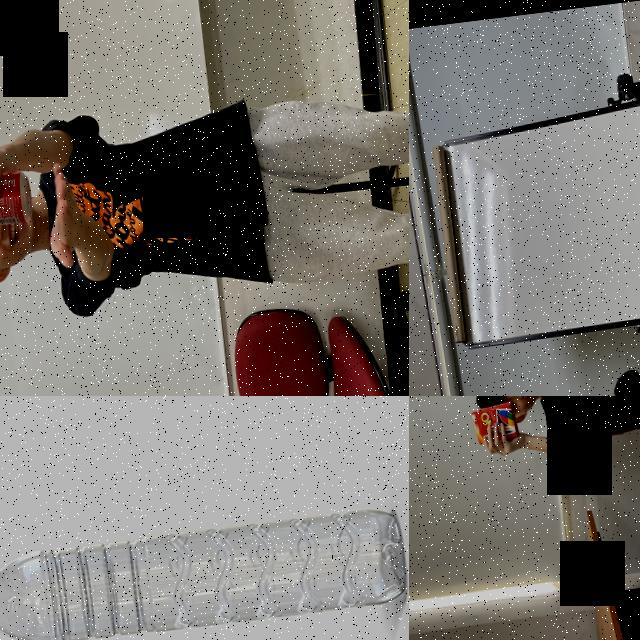bottle: (0, 502, 409, 640)
can: (0, 161, 34, 235)
